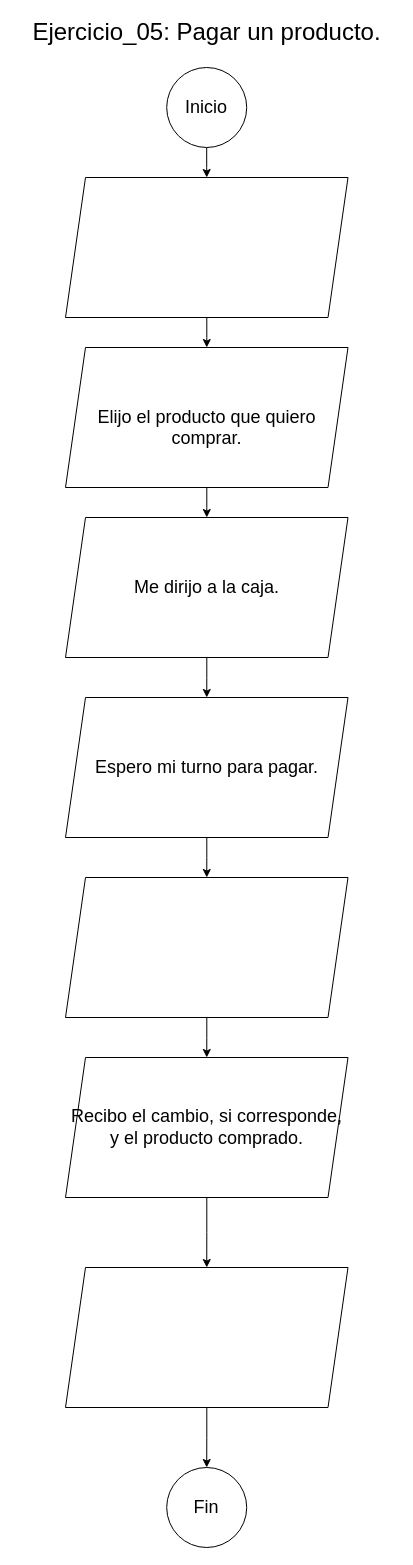
This 413x1565 diagram has some shape labels left out. Here are the shapes that lost their labels. From the top down, the box of each, then its label:
(64, 176, 348, 318): Tomo el dinero que voy a utilizar para pagar.
(64, 876, 348, 1018): Entrego el dinero al cajero.
(64, 1266, 348, 1408): Salgo de la tienda.
